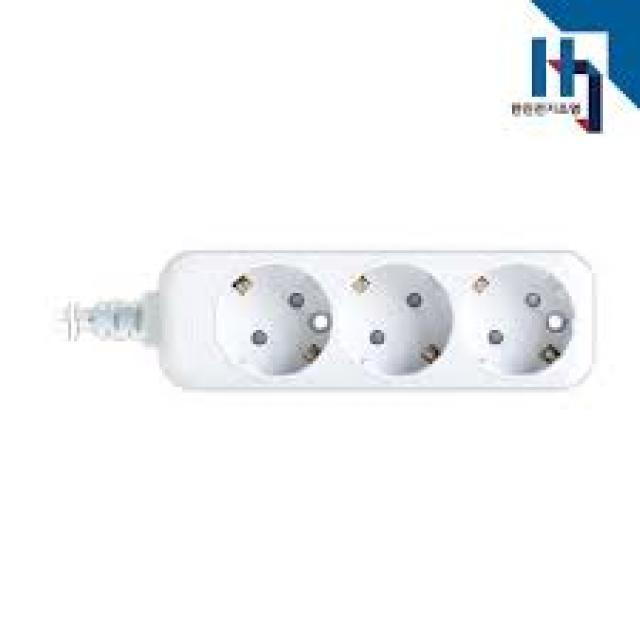typeb: (69, 235, 621, 440)
